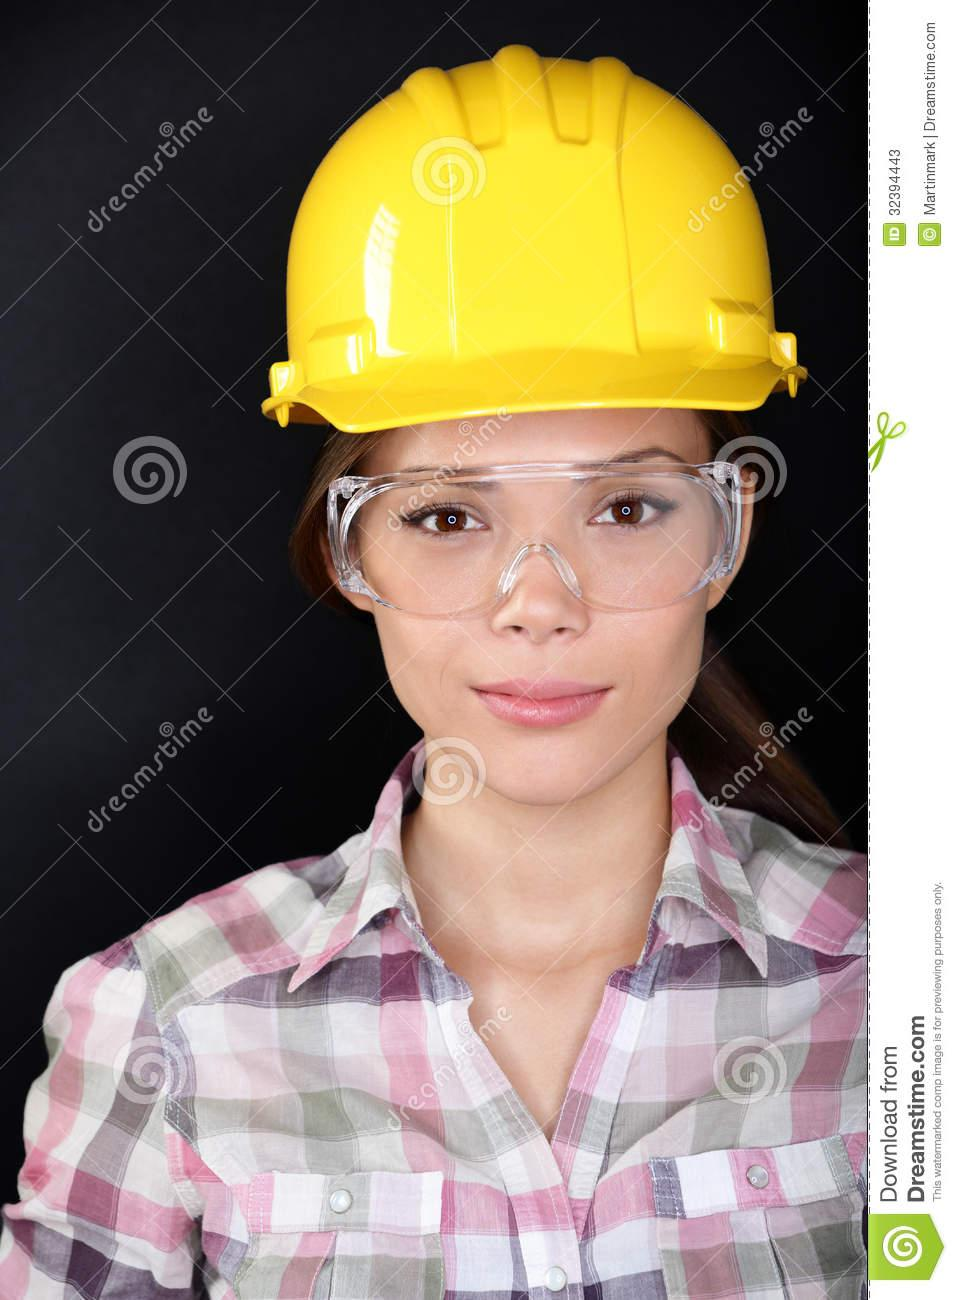helmet: (263, 48, 796, 433)
